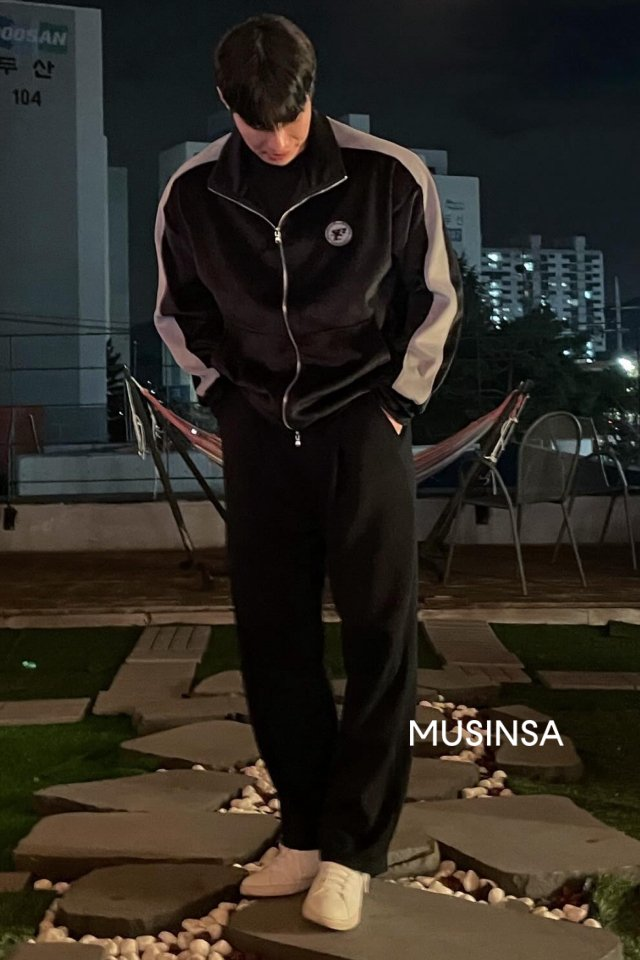Outer: (130, 115, 451, 432)
Pants: (211, 406, 417, 878)
Shoes: (217, 836, 383, 937)
